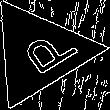P_SW: (5, 23, 74, 82)
